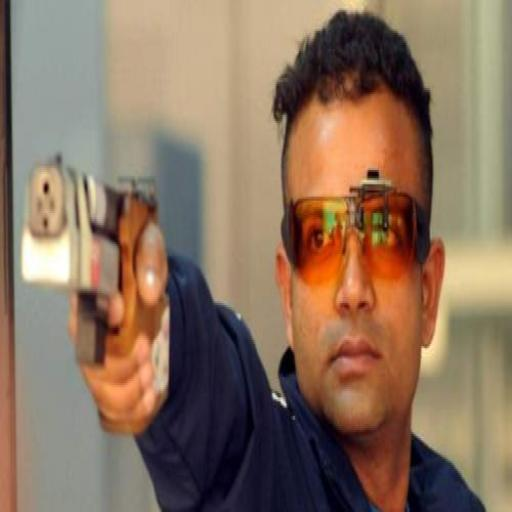shooting: (68, 6, 500, 510)
